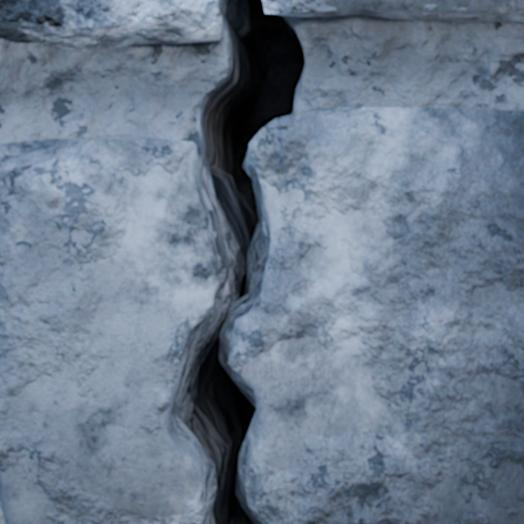broken_brick: (229, 107, 523, 523), (0, 138, 214, 523), (0, 0, 220, 49), (263, 0, 523, 21)
crack: (167, 0, 308, 523), (354, 0, 523, 1)
